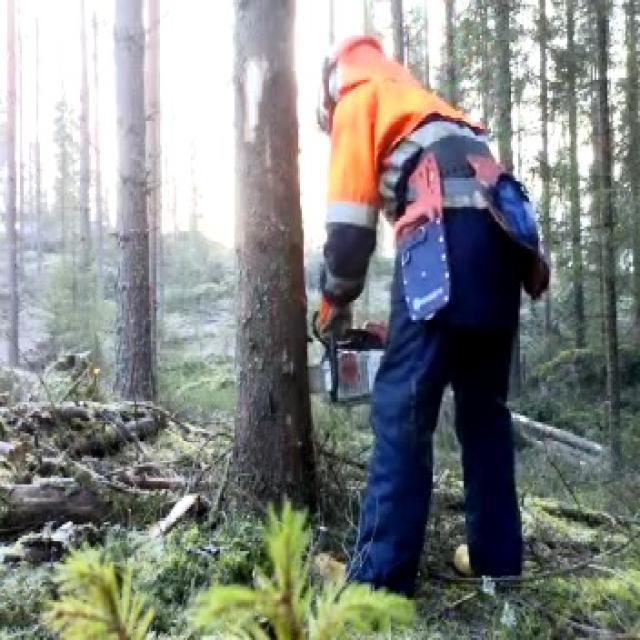Chainsaw: (282, 278, 412, 426)
